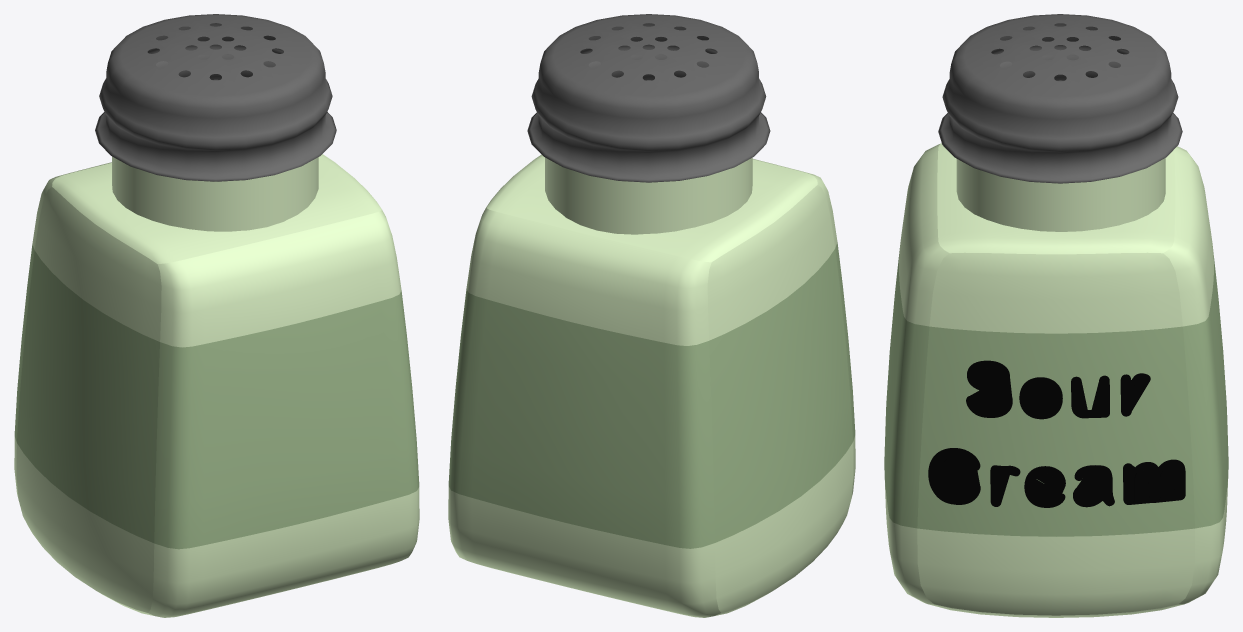
The model's file is POWDER SOURCREAM.fbx.
3 renders of one model, left to right at view 1: azimuth 30°, elevation 25°; view 2: azimuth 150°, elevation 25°; view 3: azimuth 270°, elevation 25°, orthographic.
Parts seen in each view (by area): view 1: Jar, Peeper, Cylinder; view 2: Jar, Peeper, Cylinder; view 3: Jar, Peeper, Text, Cylinder.
Part boxes in pixels (x1=…): Jar: x1=14, y1=154, x2=419, y2=617; Peeper: x1=95, y1=14, x2=336, y2=181; Cylinder: x1=112, y1=156, x2=318, y2=231; Jar: x1=448, y1=154, x2=855, y2=617; Peeper: x1=527, y1=14, x2=770, y2=182; Cylinder: x1=545, y1=157, x2=752, y2=234; Jar: x1=884, y1=143, x2=1228, y2=617; Peeper: x1=938, y1=14, x2=1182, y2=183; Text: x1=928, y1=360, x2=1185, y2=507; Cylinder: x1=956, y1=158, x2=1165, y2=231.
Bounding box in the file's own units: 222 × 359 × 219.
